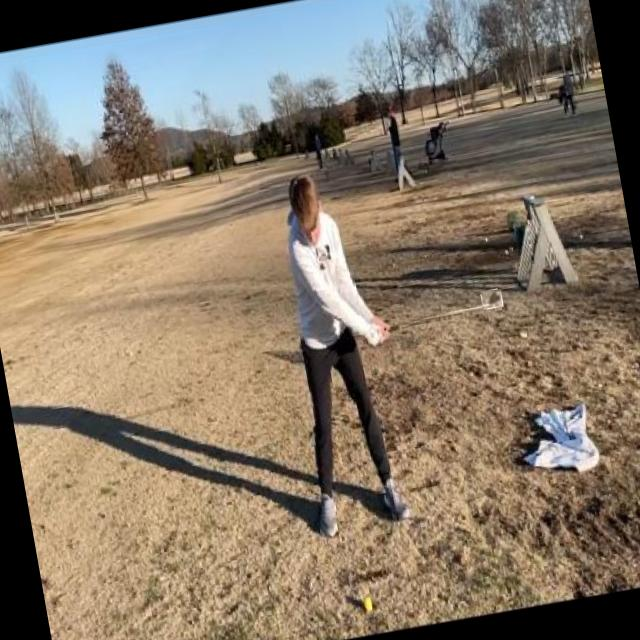club head: (481, 288, 504, 310)
